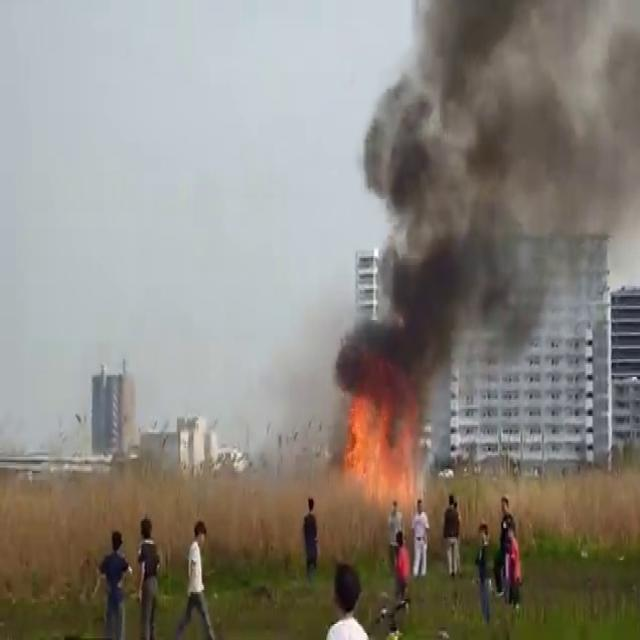Fire: (332, 380, 423, 512)
Smoke: (325, 0, 640, 414)
